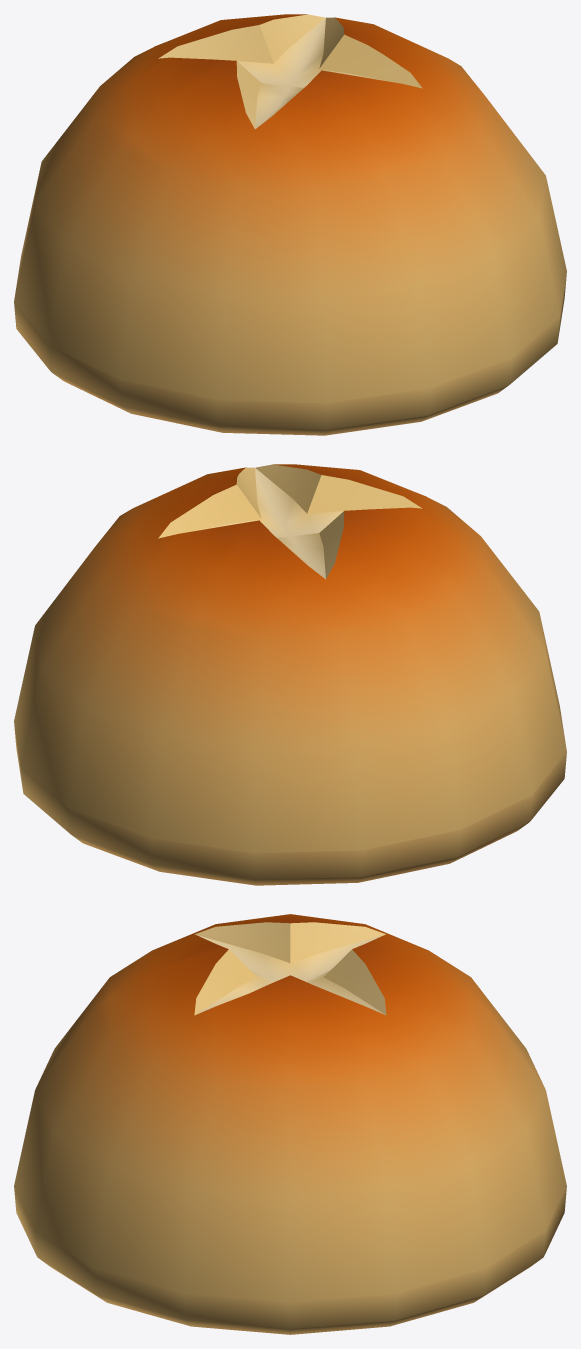
File: bread.fbx
3 views of the same model, one above another, from view 1: azimuth 30°, elevation 25°; view 2: azimuth 150°, elevation 25°; view 3: azimuth 270°, elevation 25° (orthographic).
Parts seen in each view (by area): view 1: Sphere001; view 2: Sphere001; view 3: Sphere001.
Boxes of the visible parts, <box> form: Sphere001: <box>14,14,566,435</box>; Sphere001: <box>14,464,566,885</box>; Sphere001: <box>14,914,566,1334</box>.
Bounding box in the file's own units: 6875 × 3786 × 6875.
